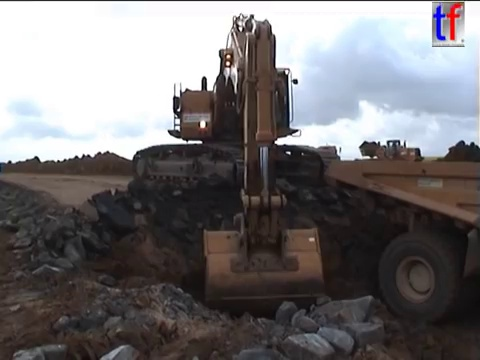excavator: (129, 10, 345, 321), (321, 155, 480, 327)
wheel loader: (357, 137, 425, 170)
